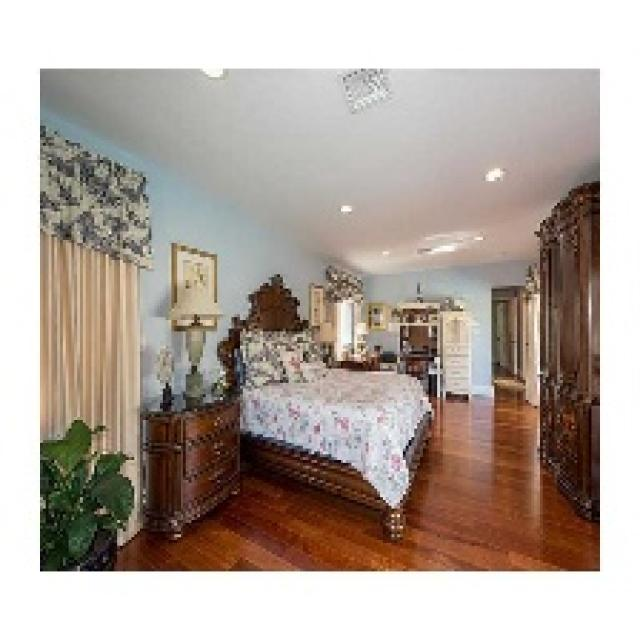Bed: (214, 271, 432, 540)
